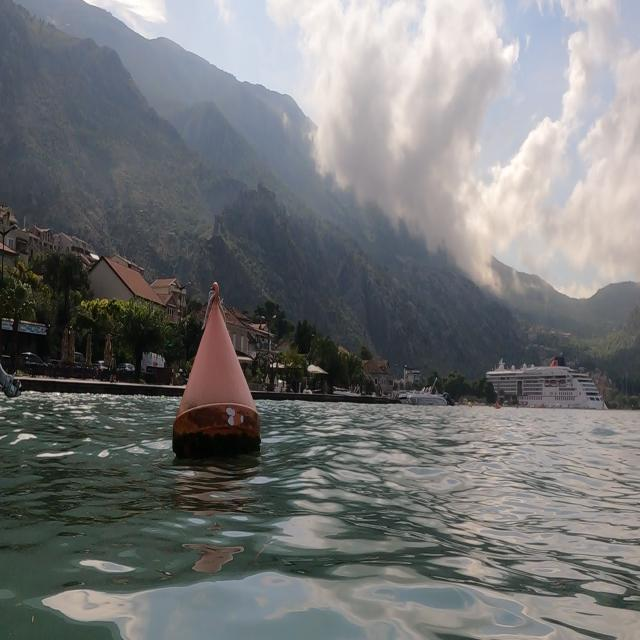buoy: (156, 265, 279, 481)
